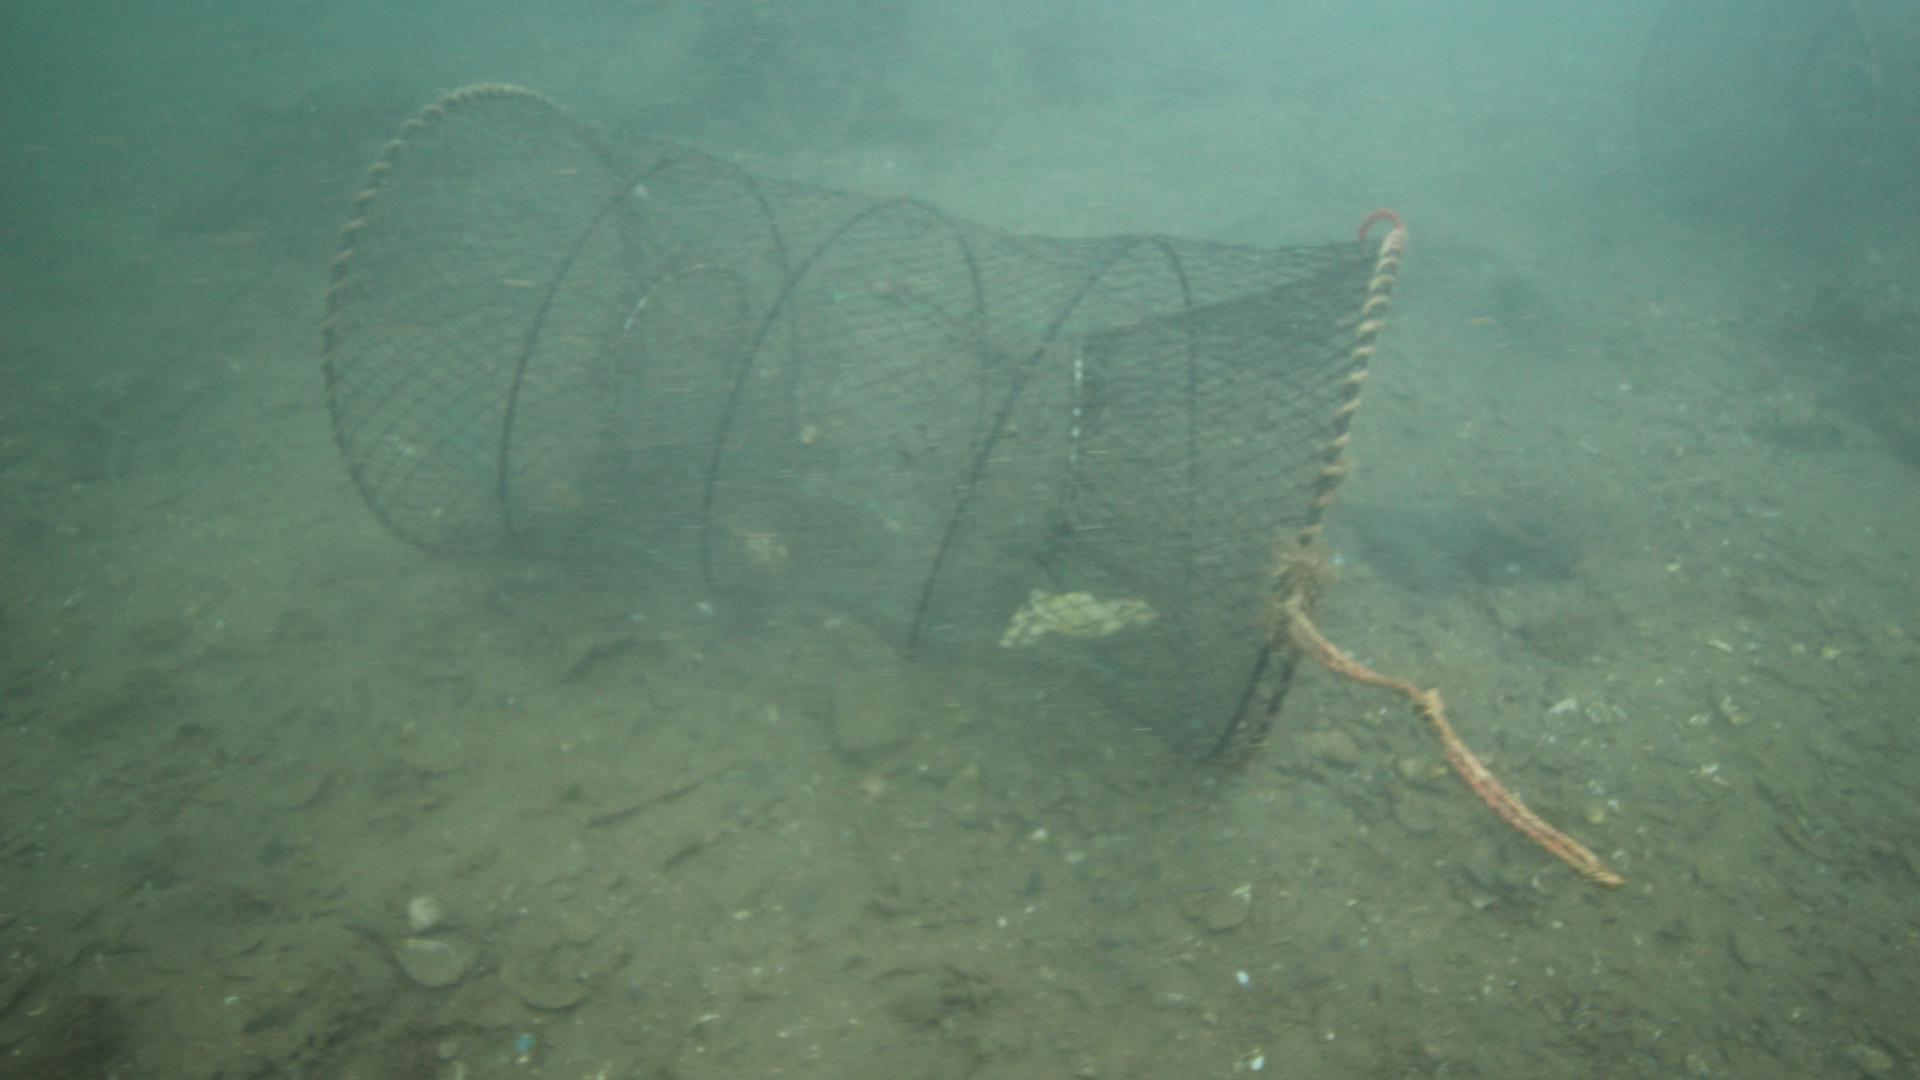bundle of ropes: (1283, 591, 1633, 895)
spring fish trap: (320, 78, 1412, 789)
